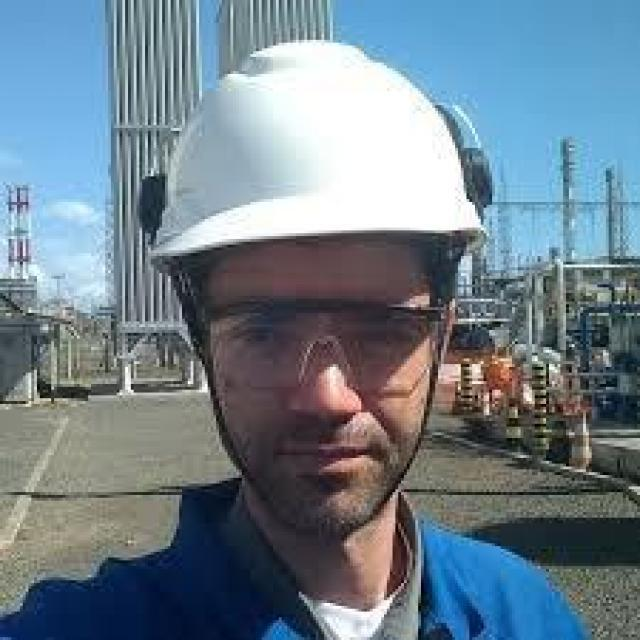hat: (148, 40, 492, 273)
